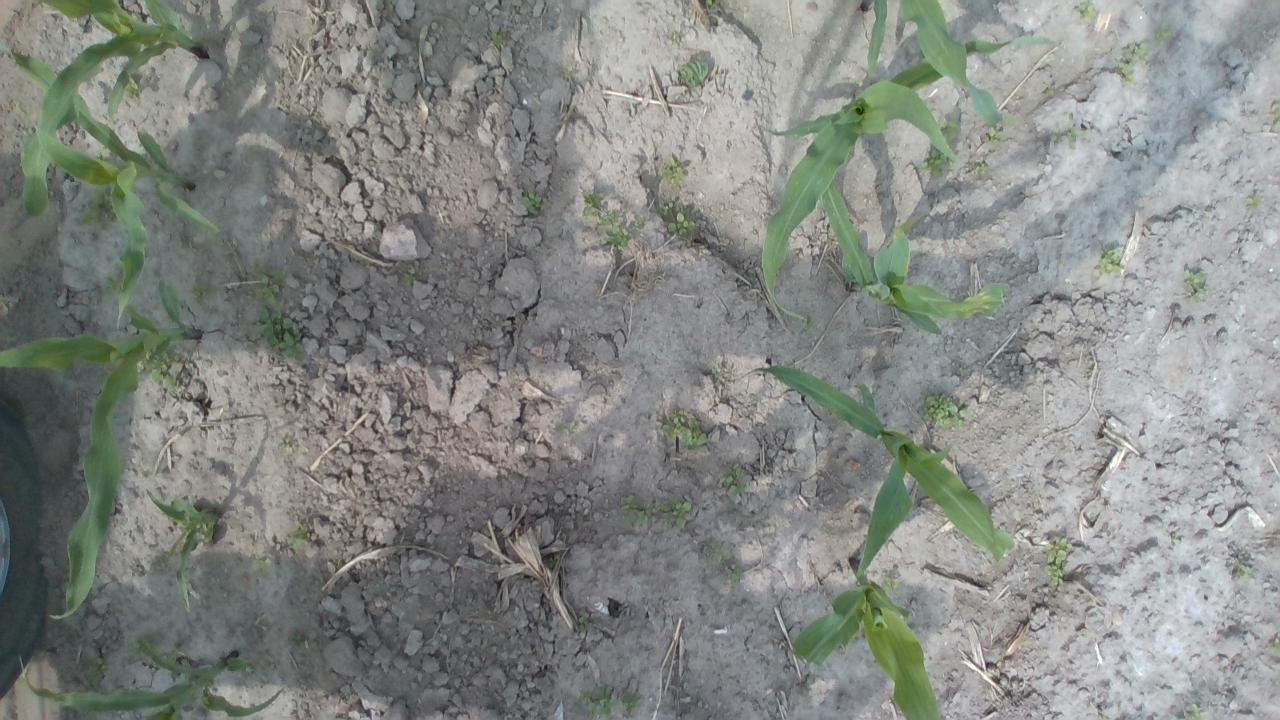Maize: (758, 38, 1060, 328), (0, 276, 204, 620), (8, 49, 225, 332), (751, 363, 1017, 583), (22, 0, 212, 216), (808, 165, 1014, 336), (790, 555, 949, 720), (18, 641, 287, 720), (856, 1, 1008, 140), (148, 490, 220, 614)
Weeds: (584, 189, 694, 247), (252, 271, 308, 366), (622, 491, 691, 527), (136, 348, 188, 394), (586, 684, 642, 715), (664, 410, 708, 448), (1122, 43, 1152, 84), (928, 394, 965, 427), (74, 198, 114, 225), (1049, 540, 1071, 587), (719, 466, 745, 498), (680, 59, 709, 87), (1098, 250, 1124, 276), (664, 158, 686, 187), (84, 658, 104, 686), (1188, 271, 1206, 302), (1063, 128, 1090, 147), (1186, 703, 1210, 720), (522, 192, 540, 214), (925, 152, 947, 169), (706, 542, 726, 560), (990, 118, 1014, 132), (290, 629, 308, 647), (1152, 26, 1170, 44), (290, 527, 306, 547), (254, 556, 274, 572), (1237, 562, 1255, 579), (575, 614, 590, 633), (557, 420, 577, 432), (1272, 637, 1280, 664), (1272, 102, 1280, 126), (488, 32, 504, 44), (1249, 197, 1263, 210), (1080, 4, 1093, 16), (730, 570, 741, 582), (974, 164, 986, 172), (672, 30, 681, 40), (408, 271, 413, 285)
